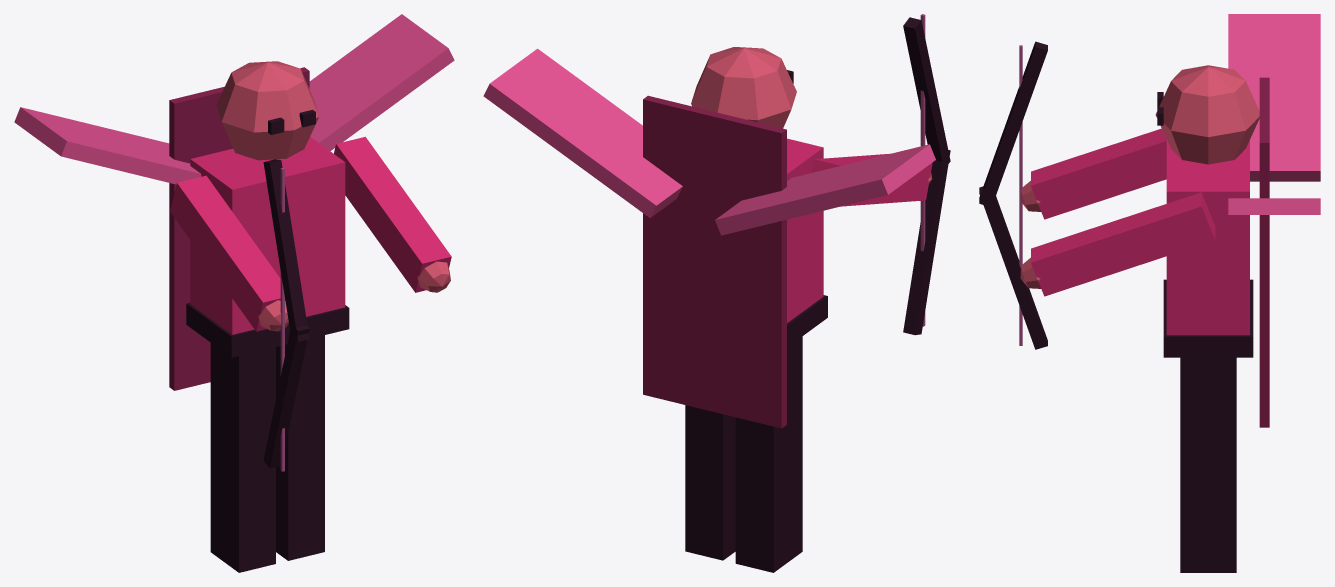
File: SM_Champion_9024_Orion.glb
3 renders of one model, left to right at view 1: azimuth 30°, elevation 25°; view 2: azimuth 150°, elevation 25°; view 3: azimuth 270°, elevation 25°, orthographic. The views are drawn at different scales.
Parts seen in each view (by area): view 1: SM_Champion_9024_Orion; view 2: SM_Champion_9024_Orion; view 3: SM_Champion_9024_Orion.
Boxes of the visible parts, x1,y1,x2,y2 form: SM_Champion_9024_Orion: (14, 14, 454, 572); SM_Champion_9024_Orion: (483, 14, 950, 572); SM_Champion_9024_Orion: (979, 14, 1320, 572).
Bounding box in the file's own units: 1.39 × 1.65 × 1.05.
